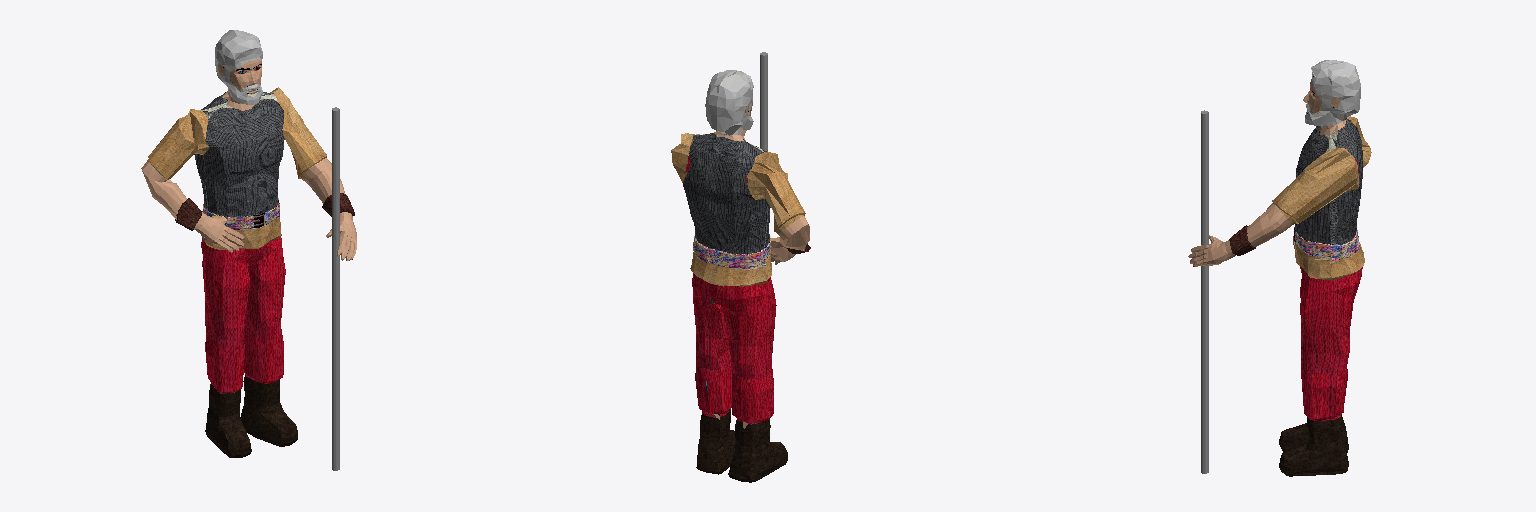
The picture shows the model from 3 angles: view 1: azimuth 30°, elevation 25°; view 2: azimuth 150°, elevation 25°; view 3: azimuth 270°, elevation 25°; orthographic projection.
Parts seen in each view (by area): view 1: lumberJack, Cylinder001; view 2: lumberJack, Cylinder001; view 3: lumberJack, Cylinder001.
Part boxes in pixels (x1,y1,x2,y2): lumberJack: (141,30,356,457); Cylinder001: (332,107,339,470); lumberJack: (671,70,810,482); Cylinder001: (760,52,767,151); lumberJack: (1188,60,1371,476); Cylinder001: (1201,110,1208,473).
Size of the model in its own units: 1.86 by 4.59 by 1.91.
Materials: 2 (1 with a texture image).